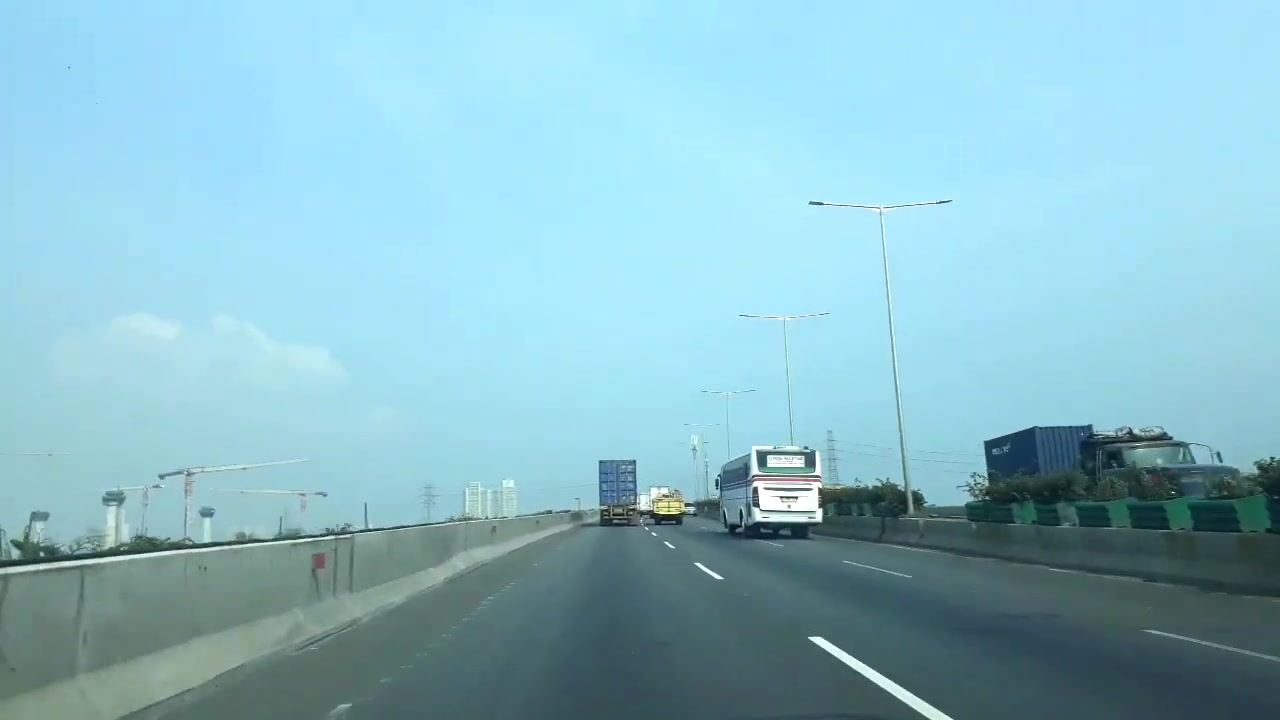plate_positive: (781, 496, 797, 502), (613, 508, 623, 512)
